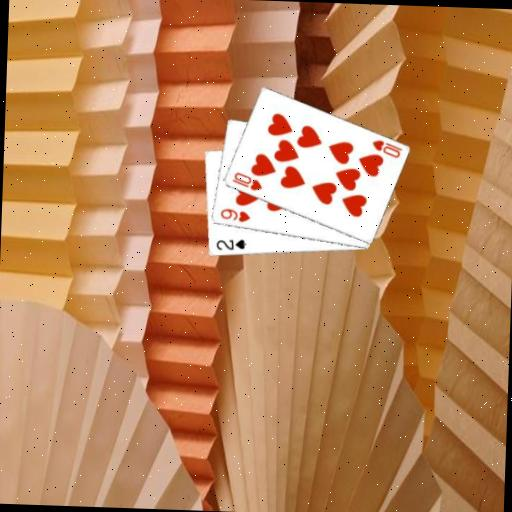10H: (228, 168, 263, 192), (368, 137, 404, 160)
2S: (212, 235, 248, 252)
9H: (217, 205, 252, 224)
